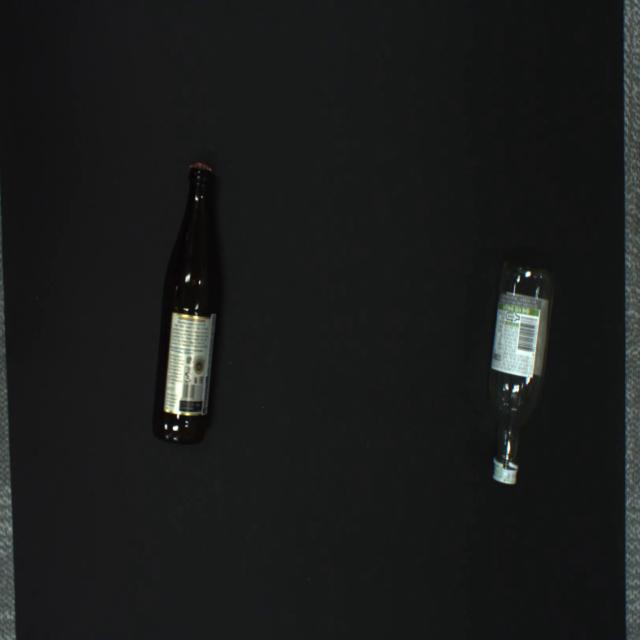beer-bottle: (152, 162, 218, 444)
soju-bottle: (488, 262, 554, 484)
